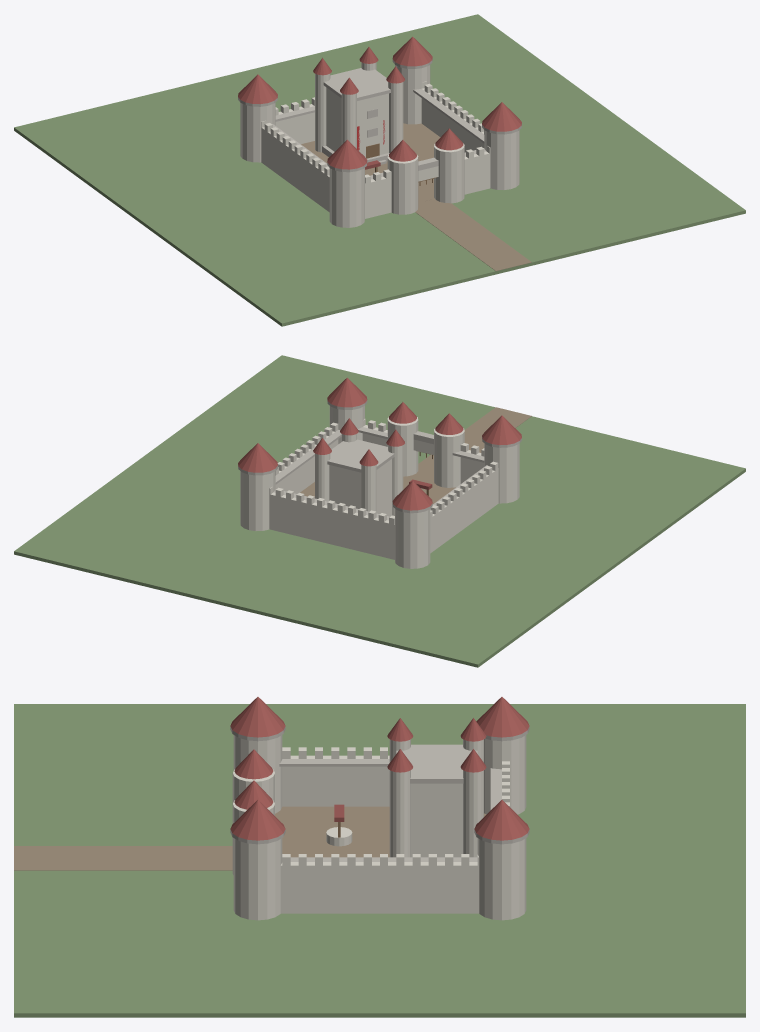
Rendered from castle.glb.
3 renders of one model, top to bottom at view 1: azimuth 30°, elevation 25°; view 2: azimuth 150°, elevation 25°; view 3: azimuth 270°, elevation 25°, orthographic. The views are drawn at different scales.
Parts seen in each view (by area): view 1: Ground, Road, Wall_W, Keep, Tower_-15_-15, Tower_15_-15, Courtyard, Gate_tower_4, Gate_tower_-4, Tower_-15_15, Keep_roof, Wall_E (+12 smaller); view 2: Ground, Wall_N, Wall_W, Keep, Tower_-15_15, Tower_15_15, Tower_-15_-15, Gate_tower_-4, Road, Keep_roof, Gate_tower_4, Wall_E (+10 smaller); view 3: Ground, Wall_E, Road, Courtyard, Wall_W, Keep, Tower_15_-15, Tower_15_15, Tower_-15_15, Keep_roof, Keep_turret_4_2, Keep_turret_4_12 (+9 smaller).
Boxes of the visible parts, left/top/right/bottom form: Ground: left=14, top=14, right=745, bottom=326; Road: left=415, top=199, right=531, bottom=271; Wall_W: left=261, top=127, right=329, bottom=212; Keep: left=326, top=87, right=388, bottom=157; Tower_-15_-15: left=329, top=168, right=364, bottom=227; Tower_15_-15: left=484, top=130, right=519, bottom=189; Courtyard: left=301, top=123, right=440, bottom=202; Gate_tower_4: left=434, top=143, right=464, bottom=203; Gate_tower_-4: left=387, top=155, right=418, bottom=214; Tower_-15_15: left=240, top=102, right=275, bottom=162; Keep_roof: left=323, top=68, right=390, bottom=100; Wall_E: left=421, top=88, right=484, bottom=152; Ground: left=14, top=355, right=745, bottom=667; Wall_N: left=269, top=492, right=394, bottom=559; Wall_W: left=430, top=468, right=498, bottom=553; Keep: left=329, top=459, right=391, bottom=516; Tower_-15_15: left=395, top=509, right=430, bottom=568; Tower_15_15: left=240, top=471, right=275, bottom=530; Tower_-15_-15: left=484, top=443, right=519, bottom=503; Gate_tower_-4: left=434, top=428, right=464, bottom=487; Road: left=415, top=407, right=531, bottom=478; Keep_roof: left=327, top=439, right=394, bottom=472; Gate_tower_4: left=387, top=417, right=418, bottom=476; Wall_E: left=275, top=431, right=338, bottom=493; Ground: left=14, top=704, right=745, bottom=1017; Wall_E: left=280, top=862, right=479, bottom=913; Road: left=14, top=846, right=232, bottom=870; Courtyard: left=275, top=806, right=486, bottom=857; Wall_W: left=282, top=755, right=389, bottom=806; Keep: left=411, top=783, right=462, bottom=857; Tower_15_-15: left=233, top=838, right=282, bottom=920; Tower_15_15: left=477, top=838, right=526, bottom=920; Tower_-15_15: left=484, top=735, right=526, bottom=814; Keep_roof: left=396, top=744, right=477, bottom=783; Keep_turret_4_2: left=389, top=770, right=410, bottom=857; Keep_turret_4_12: left=463, top=770, right=483, bottom=857.
Size of the model in its own units: 90 by 17.6 by 90.
